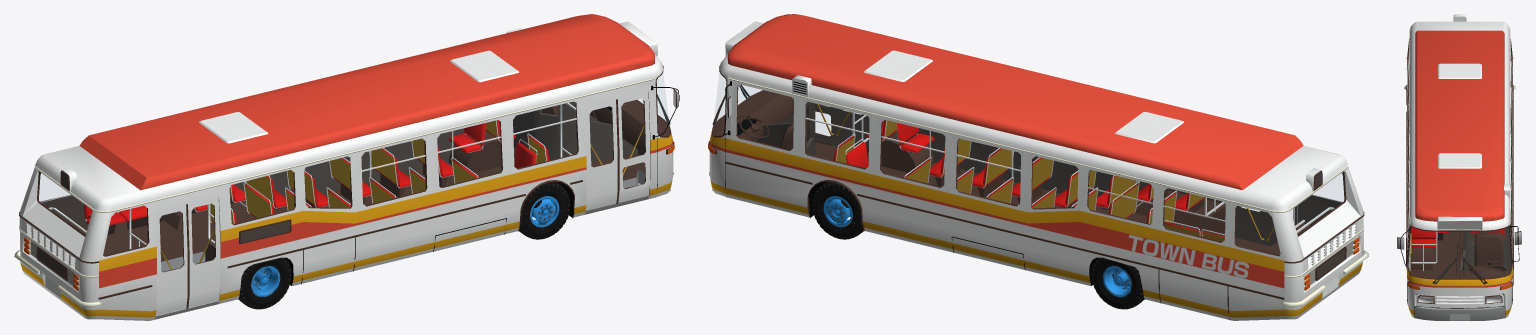
File: generic_town_bus.glb
3 views of the same model, side by side, from view 1: azimuth 30°, elevation 25°; view 2: azimuth 150°, elevation 25°; view 3: azimuth 270°, elevation 25° (orthographic). The views are drawn at different scales.
Visible parts, largest first — view 1: Object_4, Object_10, Object_12, Object_3; view 2: Object_4, Object_10, Object_12, Object_3, Object_2; view 3: Object_4.
Part boxes in pixels (x1,y1,x2,y2): Object_4: (14, 14, 679, 320); Object_10: (519, 181, 570, 239); Object_12: (238, 257, 291, 309); Object_3: (39, 75, 668, 201); Object_4: (708, 14, 1368, 320); Object_10: (812, 181, 863, 239); Object_12: (1091, 257, 1144, 309); Object_3: (713, 75, 1343, 214); Object_2: (1128, 234, 1248, 278); Object_4: (1397, 14, 1521, 320).
Size of the model in its own units: 131 by 32.35 by 31.87.
Materials: 5 (5 with a texture image).
